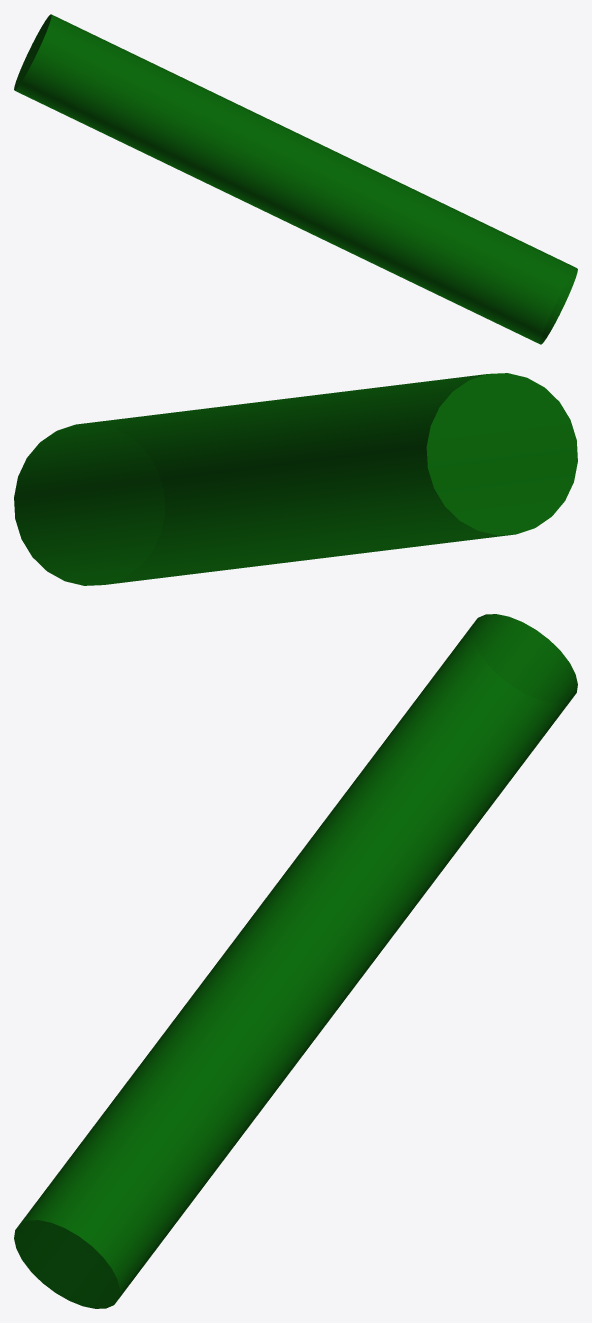
Rendered from Event_421115418_jet_3.fbx.
3 views of the same model, one above another, from view 1: azimuth 30°, elevation 25°; view 2: azimuth 150°, elevation 25°; view 3: azimuth 270°, elevation 25° (orthographic). The views are drawn at different scales.
Parts seen in each view (by area): view 1: Model; view 2: Model; view 3: Model.
Boxes of the visible parts, left/top/right/bottom form: Model: left=14, top=14, right=577, bottom=344; Model: left=14, top=373, right=577, bottom=585; Model: left=14, top=614, right=577, bottom=1308.
Size of the model in its own units: 0.2287 by 0.1557 by 0.1801.
